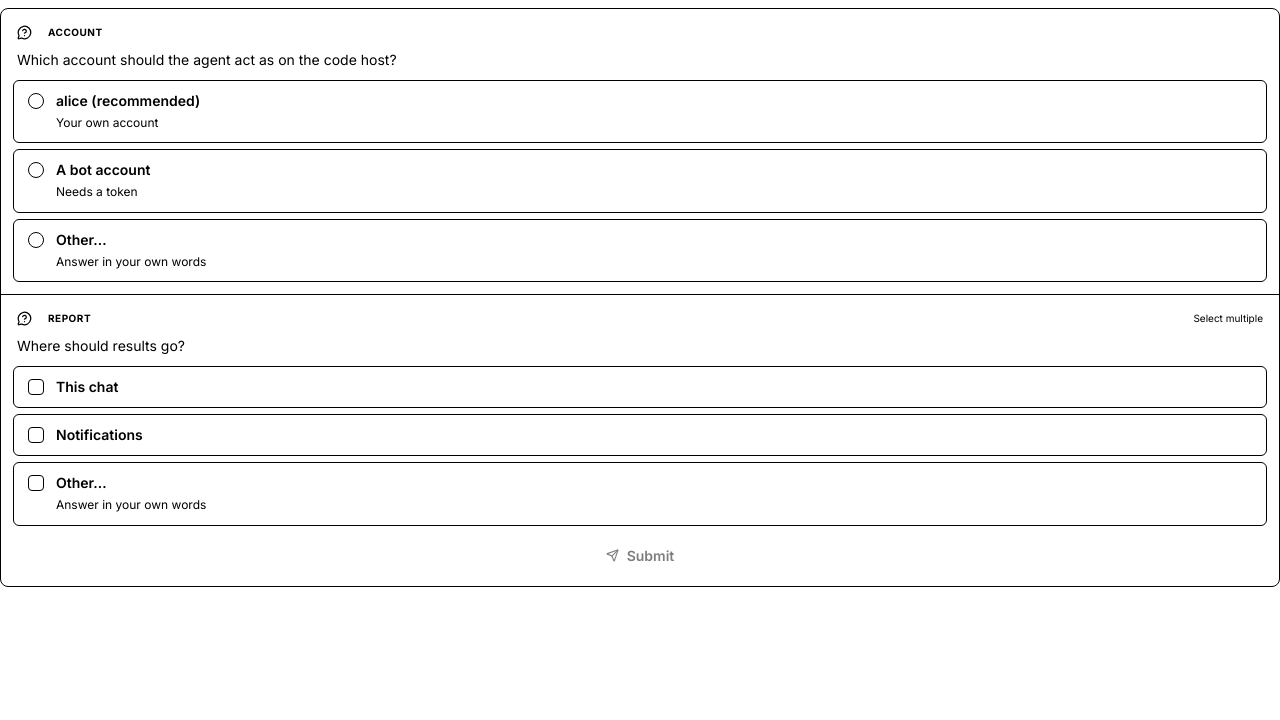
Test: AskUserQuestion: the answered card folds › folds to one line per question, chip and answer, once answered here
The image size is (1280, 720).
Expected: the button "Show questions" is not shown
Click the button "alice (recommended) Your own account".
click(128, 100)  # box [13,80,1267,143]
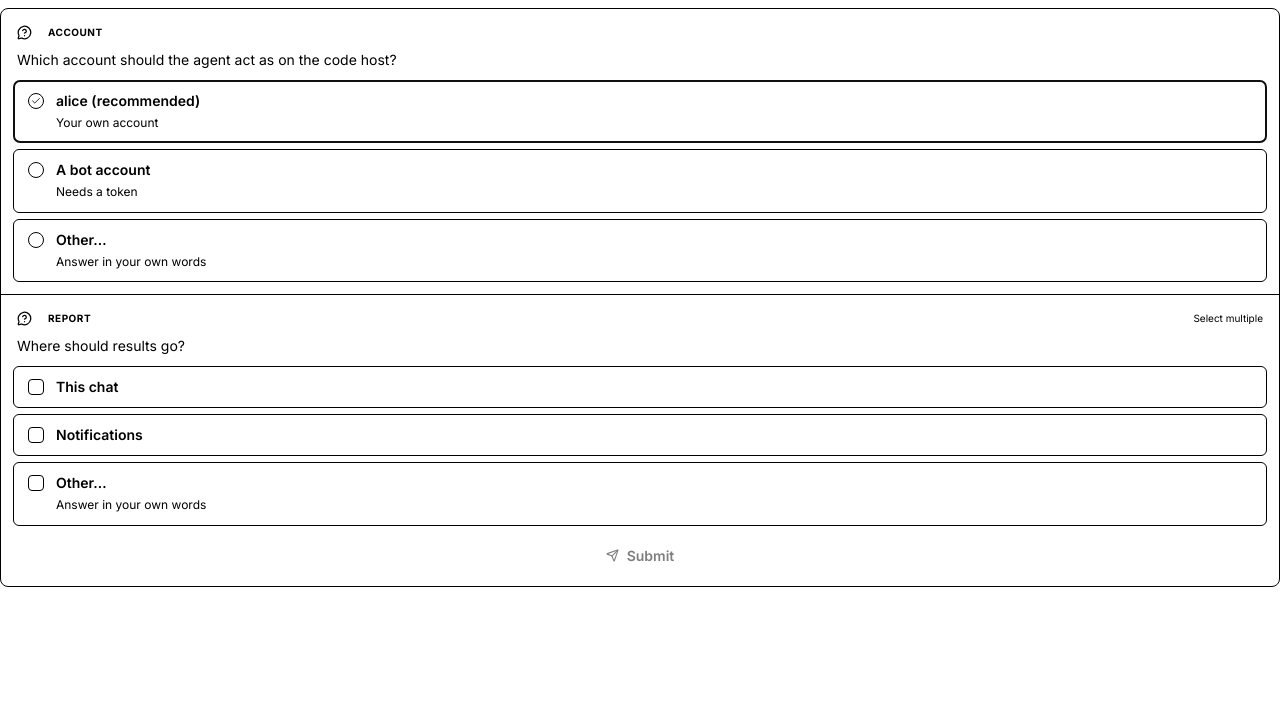
Click the button "This chat".
click(87, 386)  # box [13,366,1267,408]
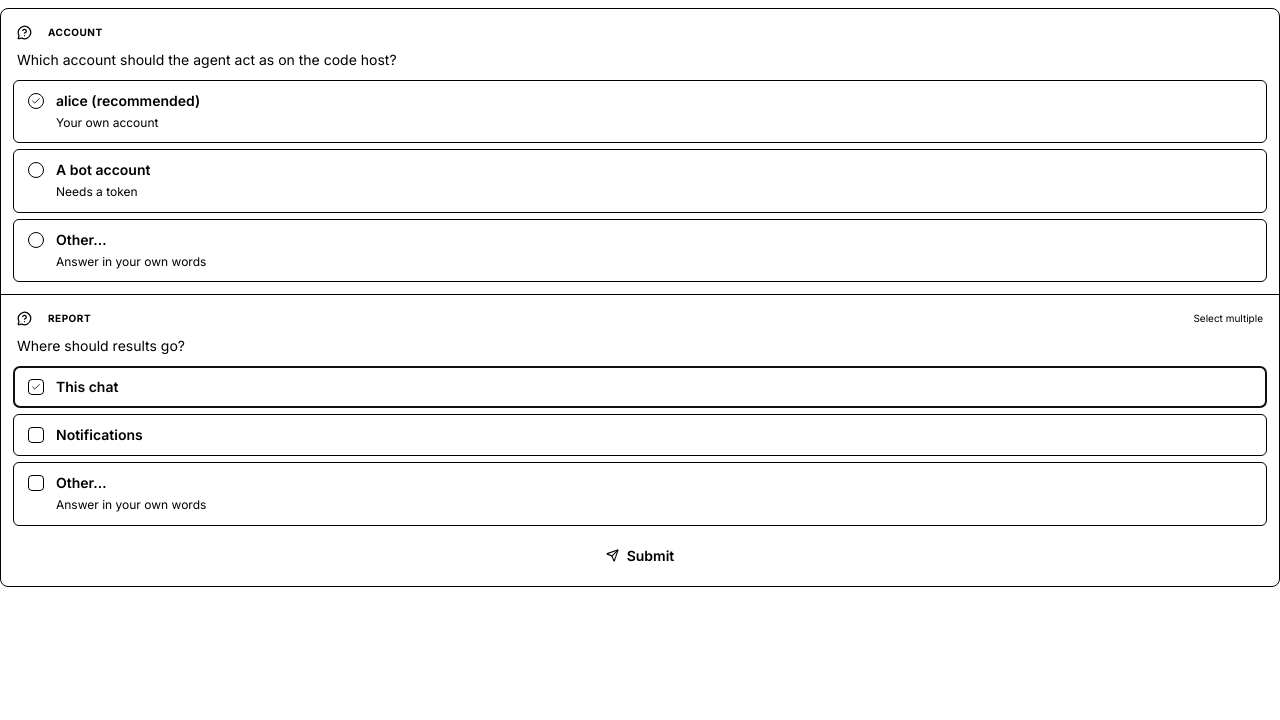
Click the button "Other… Answer in your own words" below "Where should results go?".
click(81, 482)  # box [13,462,1267,526]
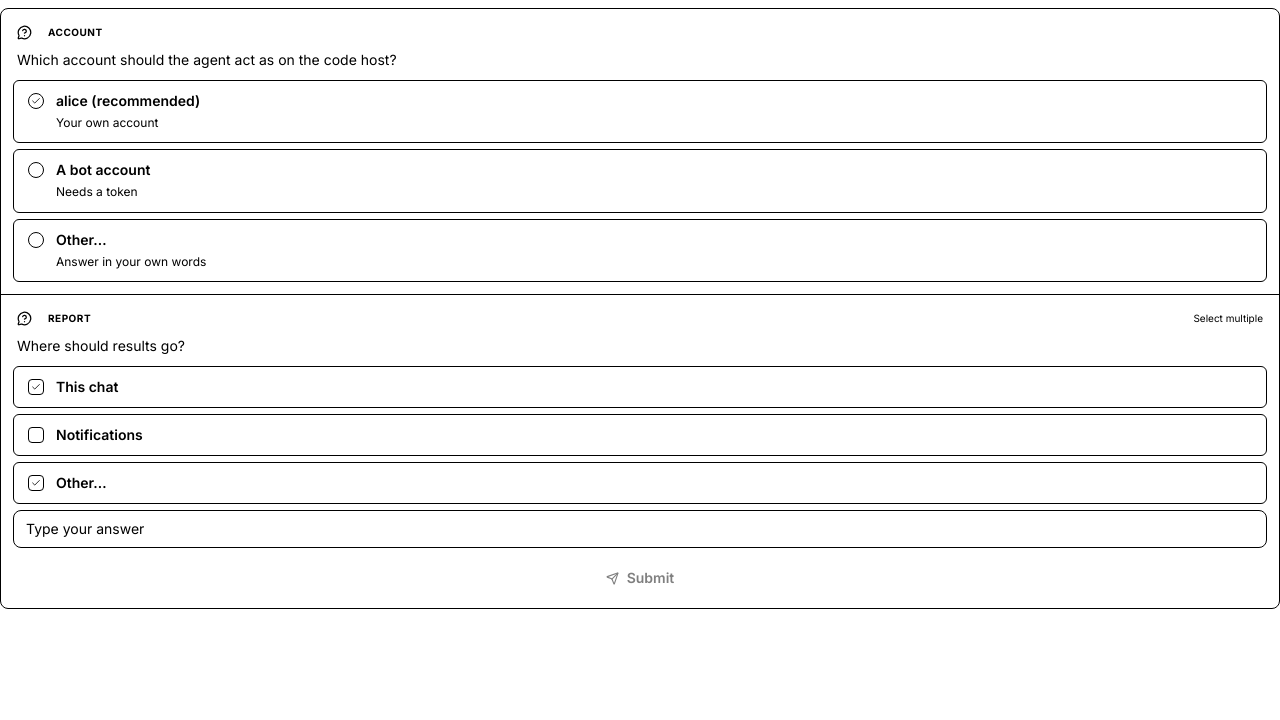
Type "a weekly email" into the field labelled "your answer".
click(640, 529); type("a weekly email")  # box [13,510,1267,548]
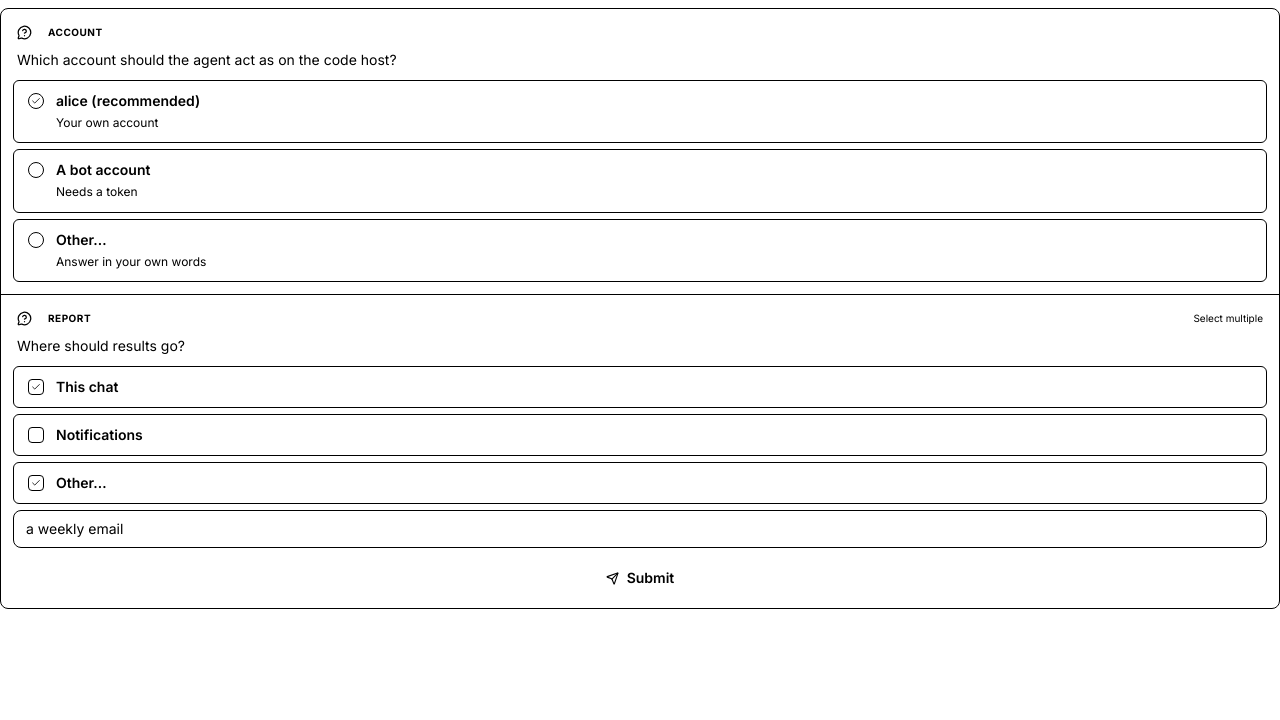
Click the button "Submit".
click(640, 578)  # box [13,560,1267,596]
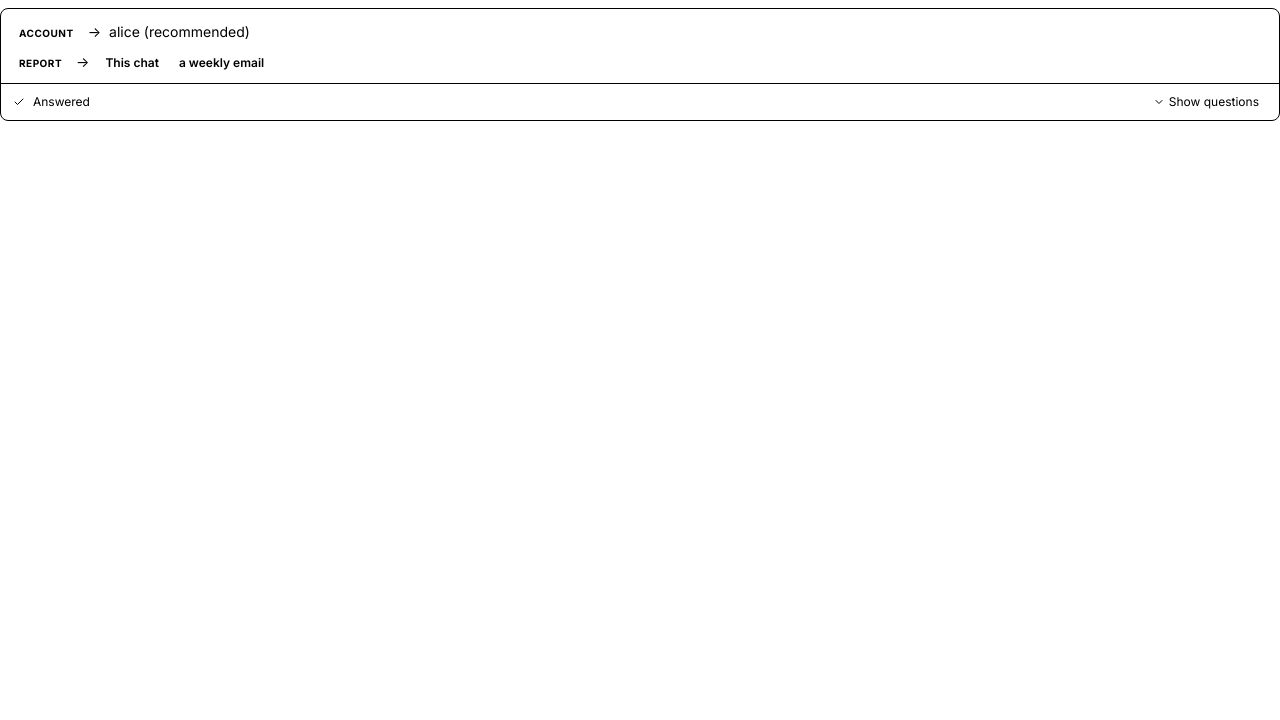
Now the text "Which account should the agent act as on the code host?" is gone
Now the element showing "→ alice (recommended)" is shown, box [88,23,250,40]
Now the text "a weekly email" is shown, box [179,55,264,70]
